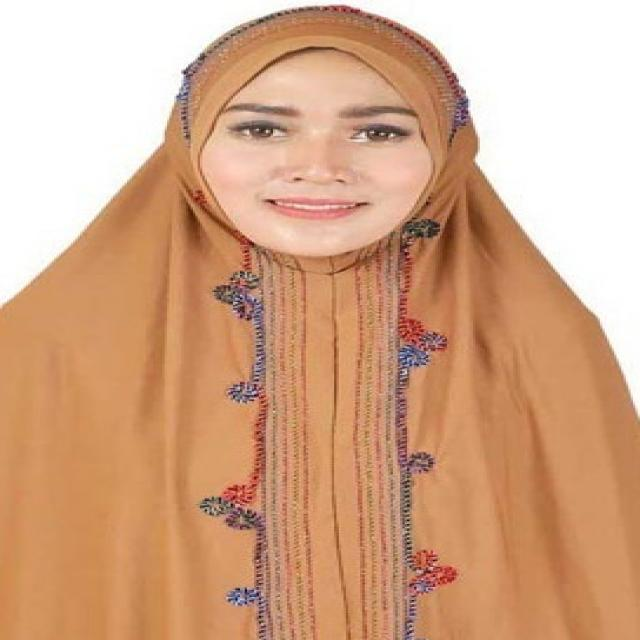head: (176, 7, 475, 260)
